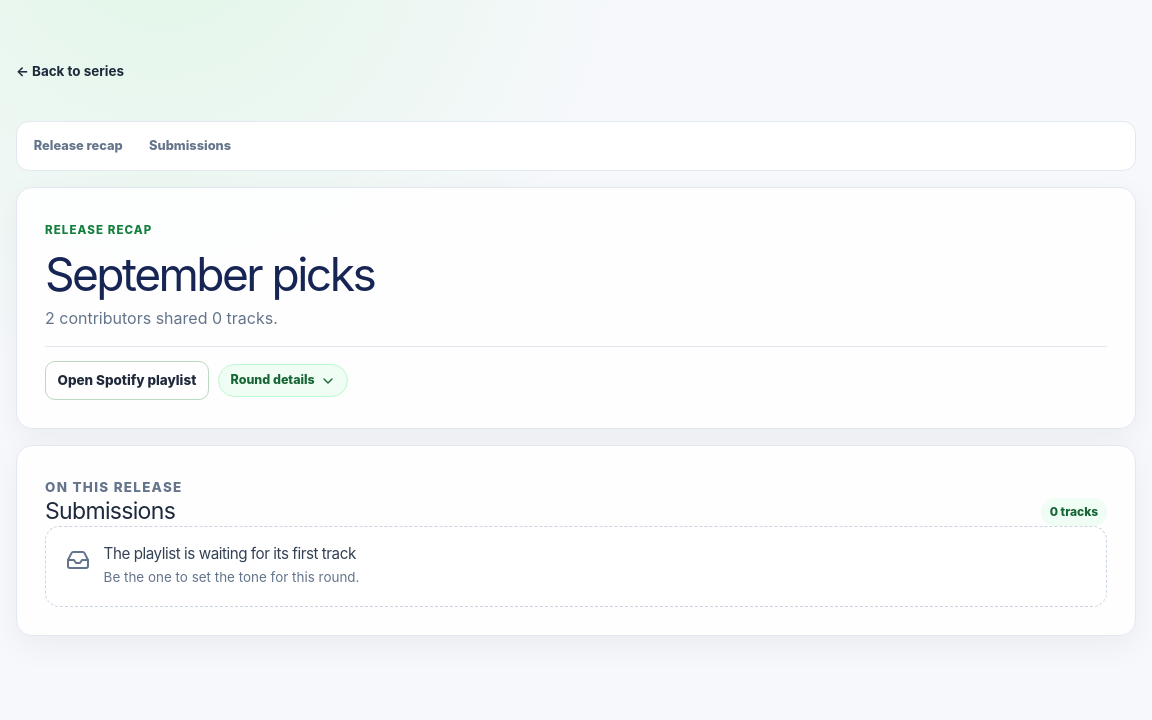
Scenario: RoundPage › folds the published overview into the recap while keeping the playlist link visible
This screenshot has width=1152, height=720.
expect the heading "September picks" is shown: met, box [45,246,374,302]
expect the text "Submissions are currently closed." is not shown: met
Click the button "Round details" at (283, 381), box [218,364,348,397]
(page scrolled)
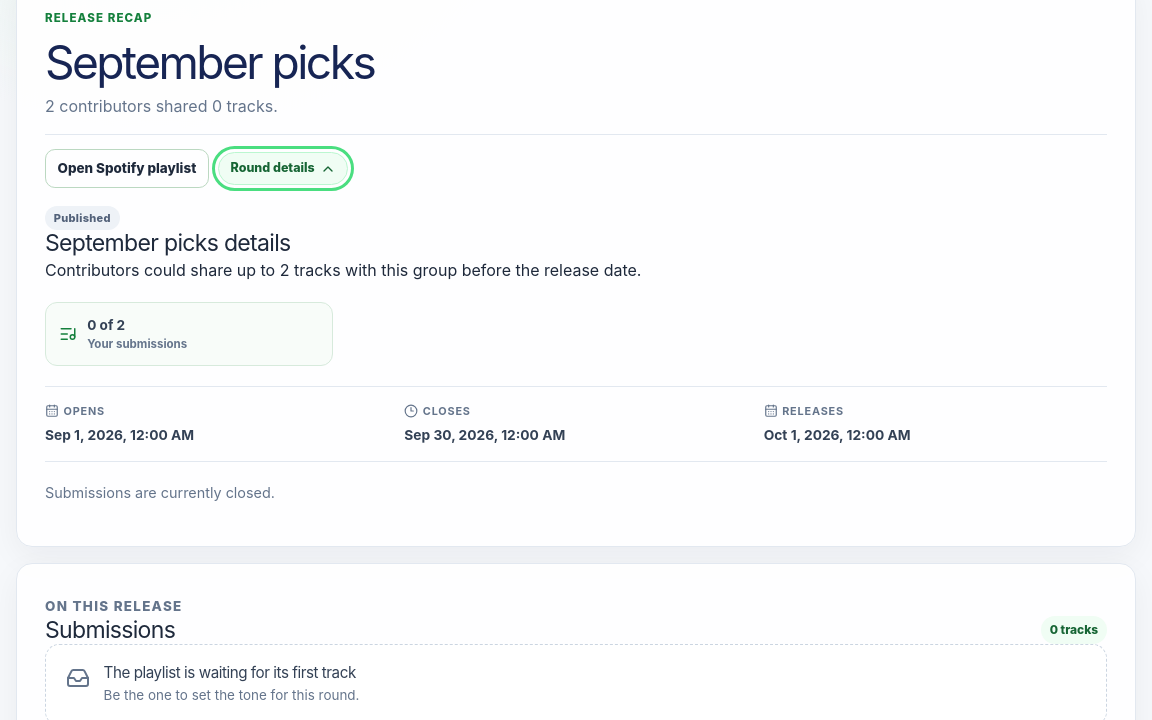
expect the number of links "Open Spotify playlist" is 1: met, box [45,149,209,188]
expect the text "Submissions are currently closed." is shown: met, box [45,482,275,504]
expect the button "Round details" is expanded: met, box [218,152,348,185]
